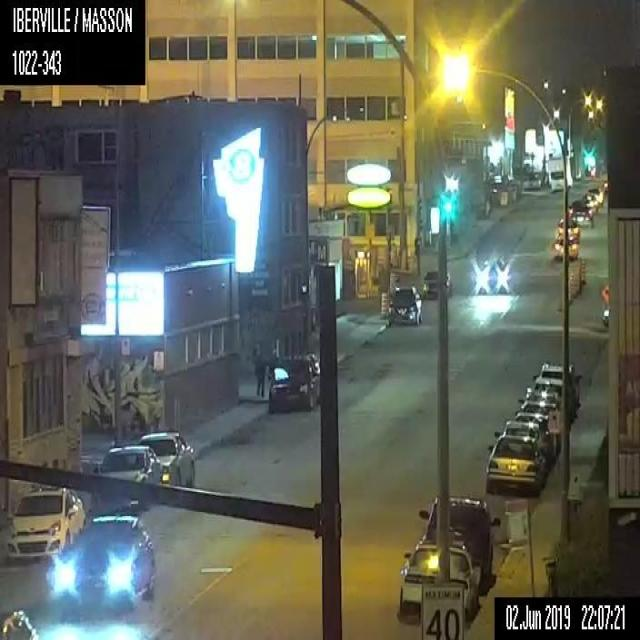construction: (378, 290, 387, 318), (567, 263, 573, 303), (600, 283, 607, 317), (572, 261, 579, 294), (390, 243, 398, 267), (579, 255, 585, 282)
pedestrian: (253, 345, 265, 399)
vehicle: (44, 514, 156, 614), (416, 494, 502, 594), (397, 543, 479, 624), (4, 486, 84, 560), (92, 444, 160, 509), (484, 432, 544, 498), (134, 430, 195, 490), (266, 352, 320, 413), (531, 356, 580, 412), (492, 420, 550, 449), (386, 282, 422, 327), (473, 255, 510, 293), (0, 606, 38, 638), (546, 156, 571, 192), (517, 396, 563, 415), (421, 270, 451, 298), (510, 410, 552, 430), (530, 376, 568, 395), (522, 386, 563, 401), (551, 239, 579, 260), (555, 218, 580, 240), (569, 206, 592, 228)
